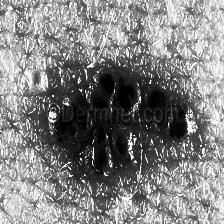Benign Marking or Mole: (86, 70, 140, 112), (81, 128, 112, 178), (114, 133, 137, 164)
